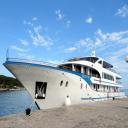cruises: (3, 46, 127, 112)
